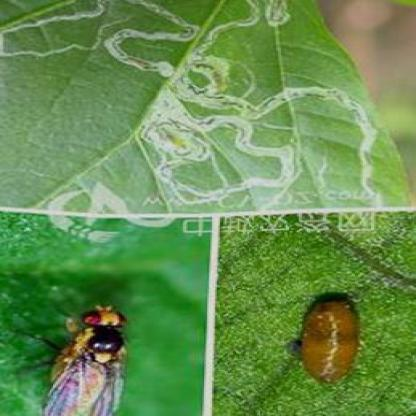whorl-maggot: (295, 287, 363, 387)
